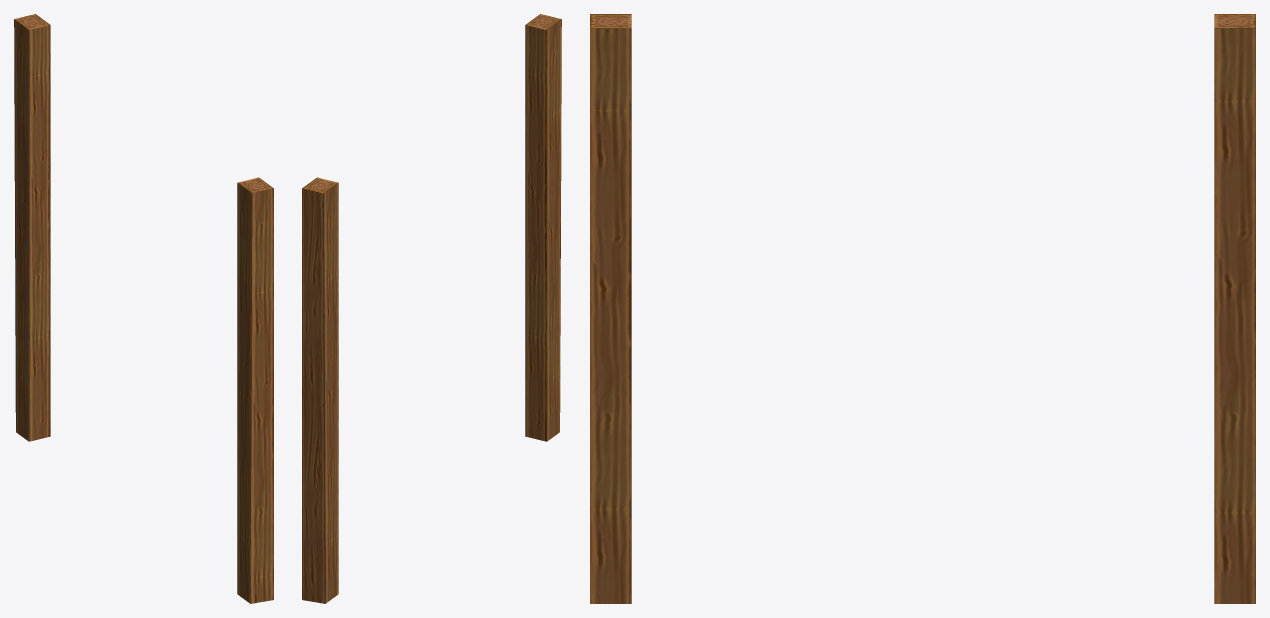
3 views of the same model, side by side, from view 1: azimuth 30°, elevation 25°; view 2: azimuth 150°, elevation 25°; view 3: azimuth 270°, elevation 25° (orthographic). The views are drawn at different scales.
Visible parts, largest first — view 1: Cube.1171; view 2: Cube.1171; view 3: Cube.1171.
Part boxes in pixels (x1=…): Cube.1171: x1=14, y1=14, x2=273, y2=603; Cube.1171: x1=302, y1=14, x2=561, y2=603; Cube.1171: x1=590, y1=14, x2=1255, y2=603.
Bounding box in the file's own units: 43.13 × 789 × 827.
Materials: 1 (1 with a texture image).
